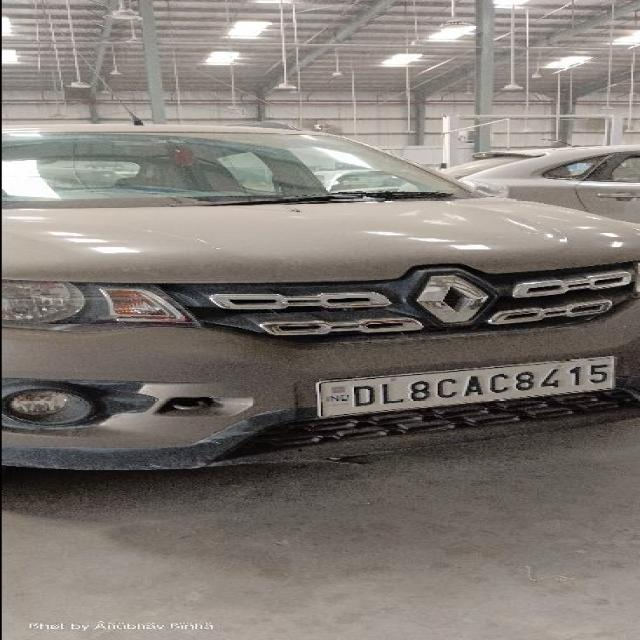license_plate: (312, 355, 617, 418)
